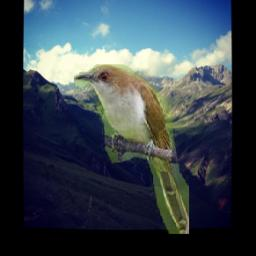Cuckoo: (73, 65, 188, 235)
